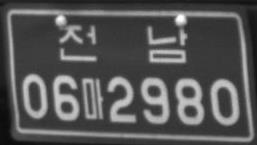0: (209, 77, 240, 126), (21, 73, 47, 119)
2: (106, 75, 136, 123)
6: (52, 74, 80, 121)
8: (174, 77, 205, 126)
9: (140, 76, 170, 125)
마: (81, 77, 103, 119)
전남_D: (58, 24, 188, 62)
